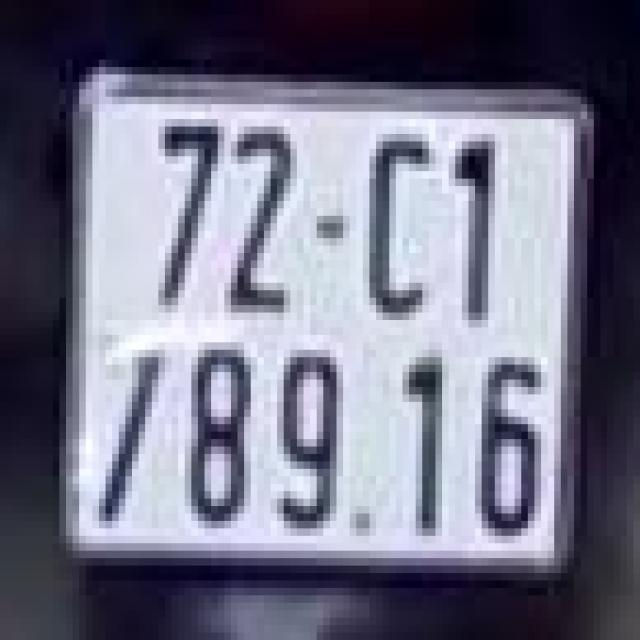1: (386, 342, 452, 536), (452, 130, 505, 339)
2: (228, 119, 300, 335)
6: (475, 350, 561, 543)
7: (135, 104, 228, 328), (80, 323, 158, 540)
8: (185, 327, 257, 536)
9: (270, 323, 350, 540)
C: (356, 119, 442, 328)
